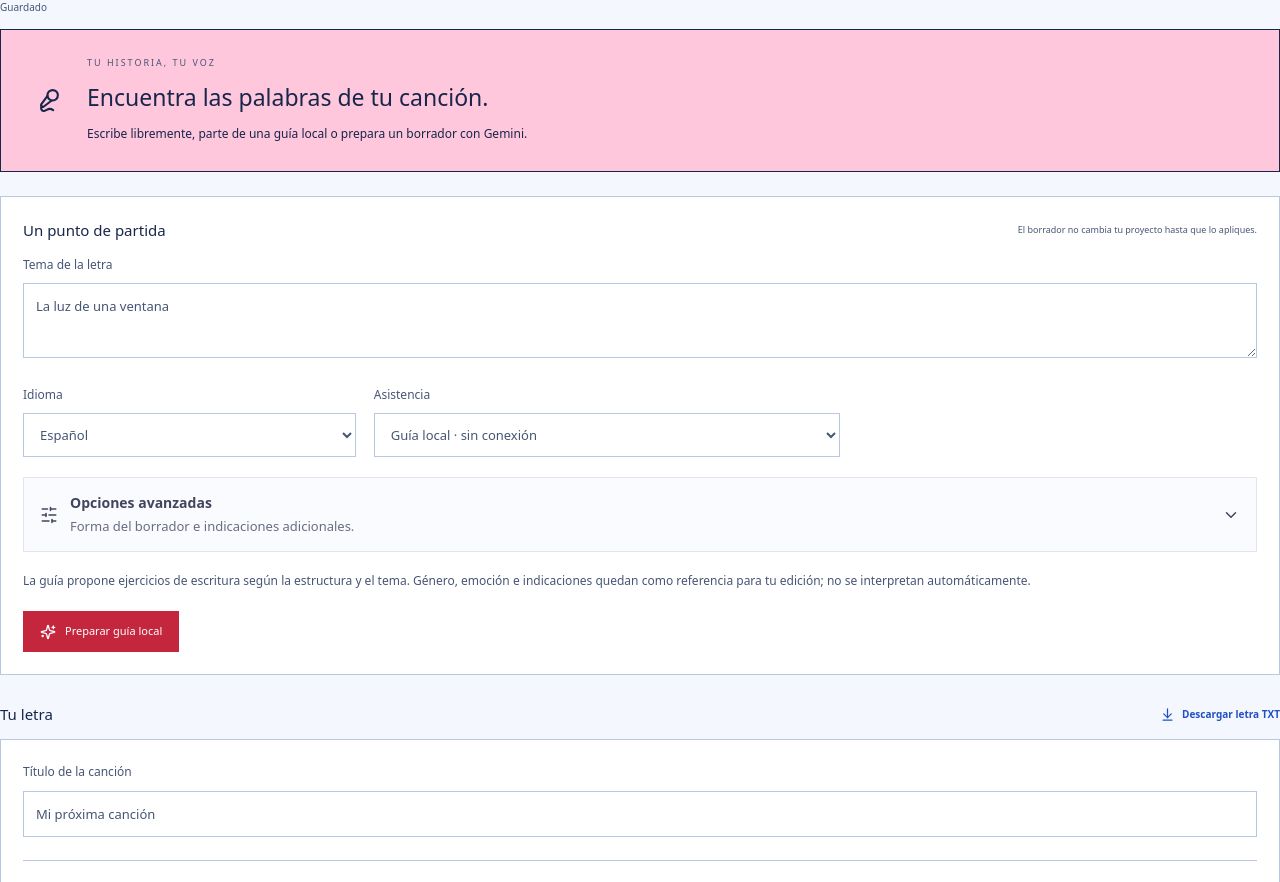
Test case: Editor de letras en DOM simulado › una respuesta tardía tras cancelar no aparece ni modifica el proyecto
Select "Gemini · opcional" in the dropdown named "Asistencia" at (607, 435), box [374,413,840,457]
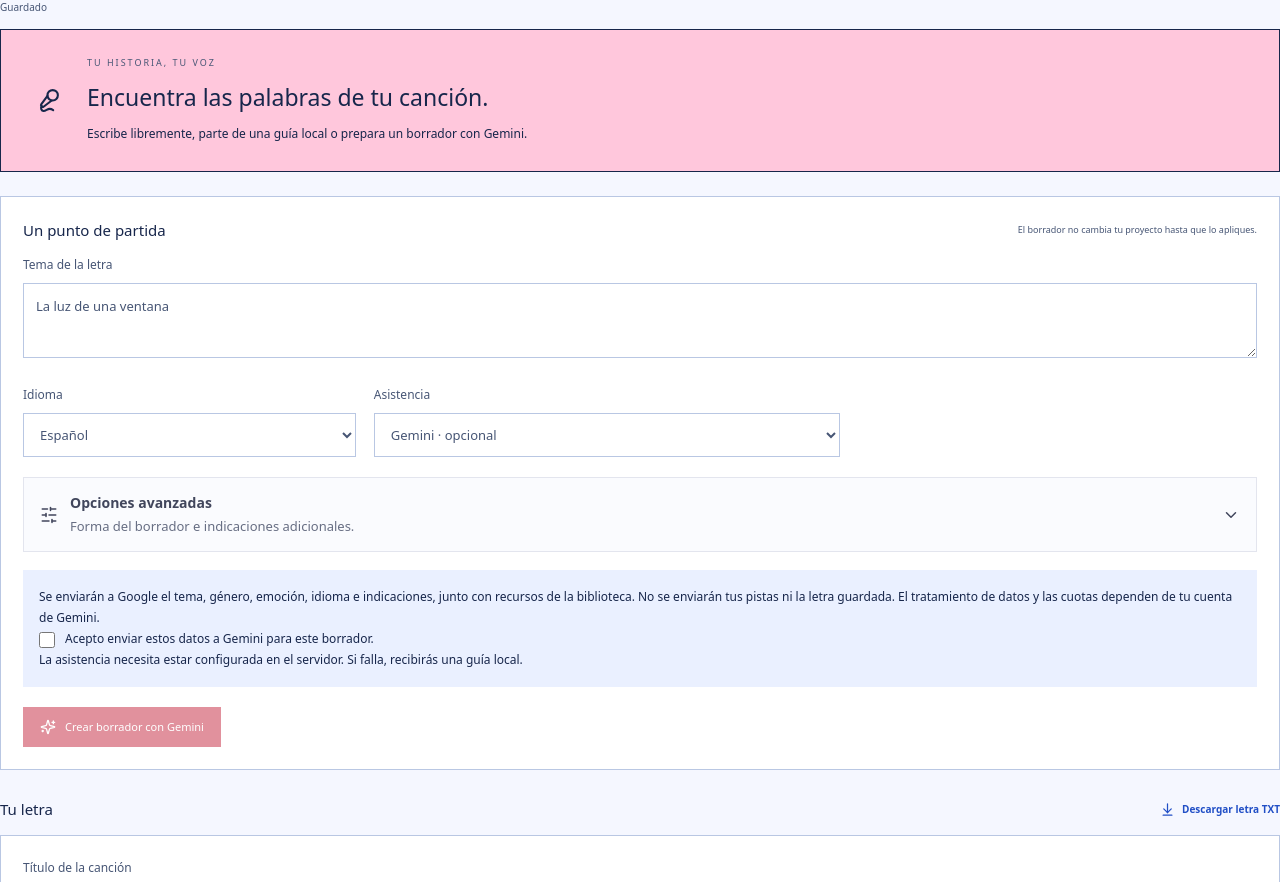
Click the checkbox labelled "Acepto enviar estos datos a Gemini para este borrador." at (47, 640), box [39,632,55,648]
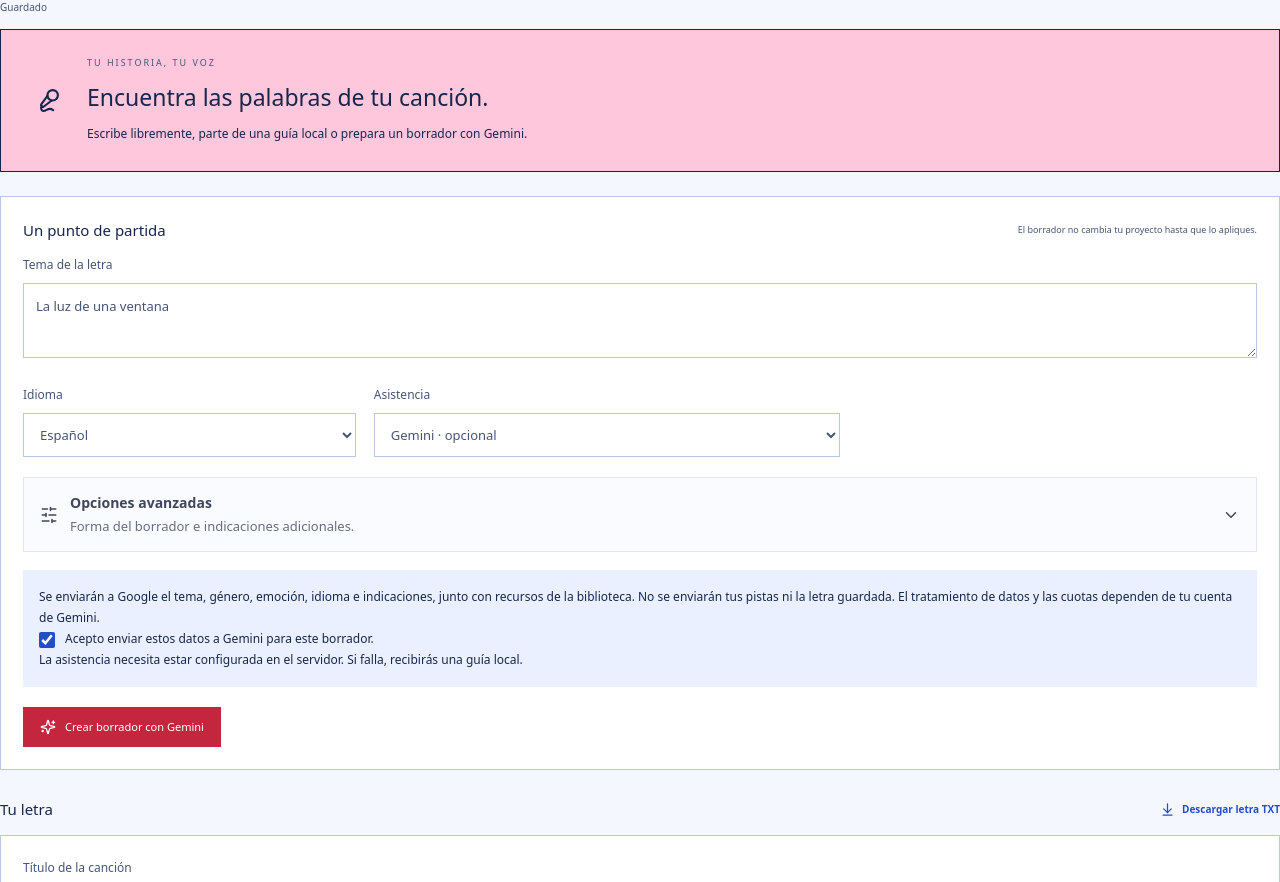
Click the button "Crear borrador con Gemini" at (122, 727), box [23,707,221,747]
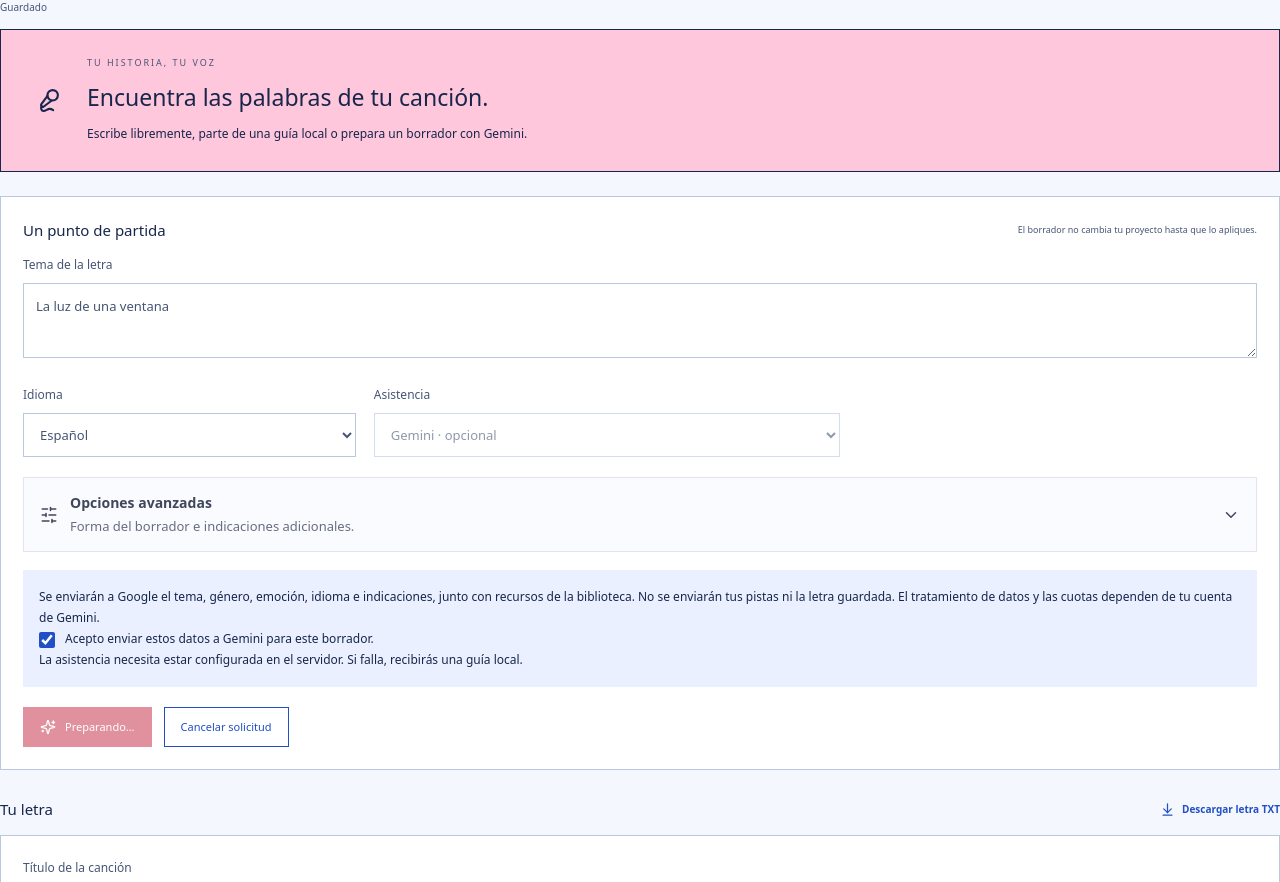
Click the button "Cancelar solicitud" at (226, 727), box [164,707,289,747]
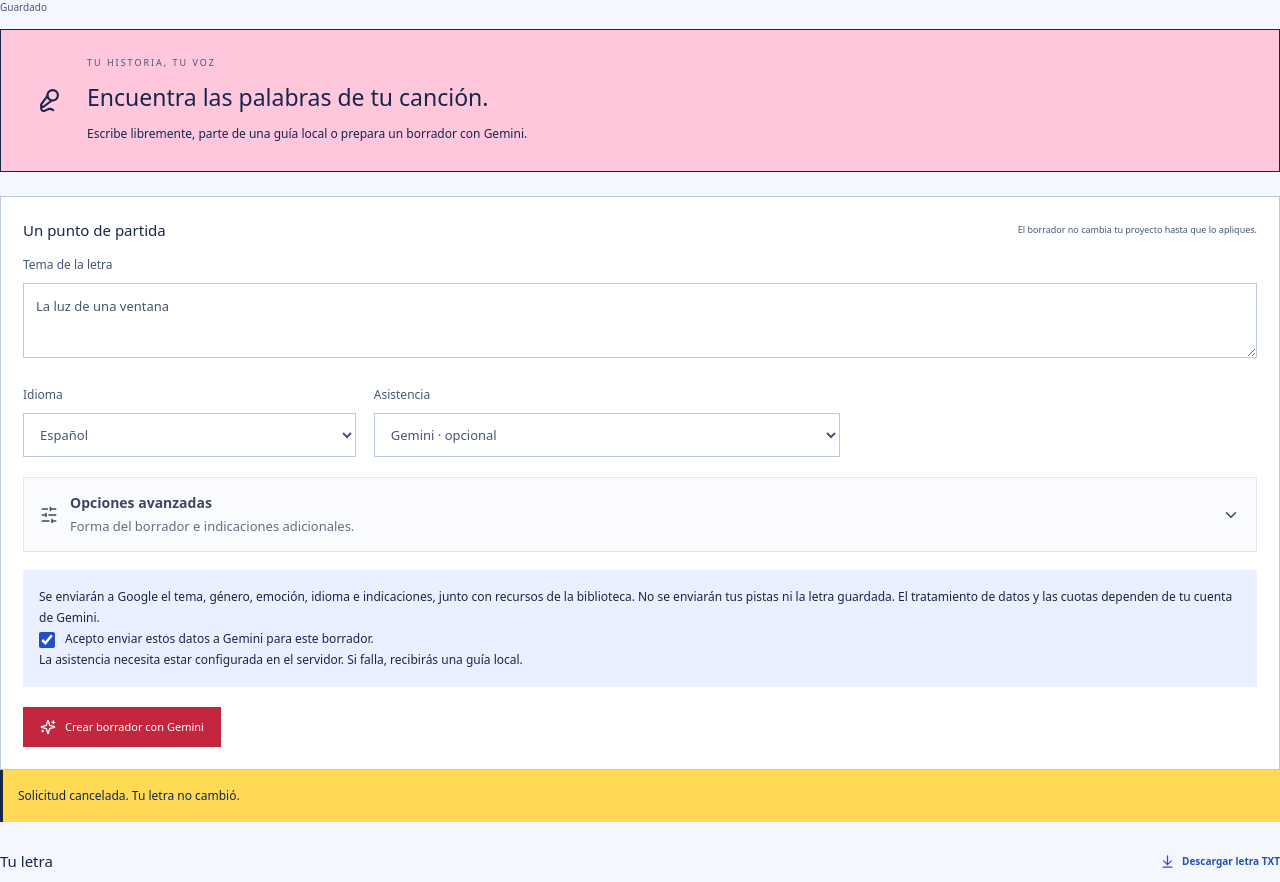
Expected: the text "Solicitud cancelada" is shown, [18,787,240,804]
